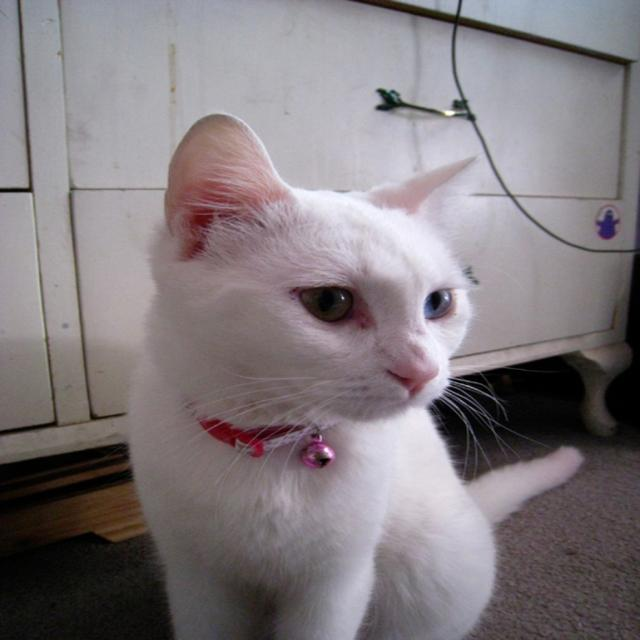Cat: (93, 112, 584, 640)
